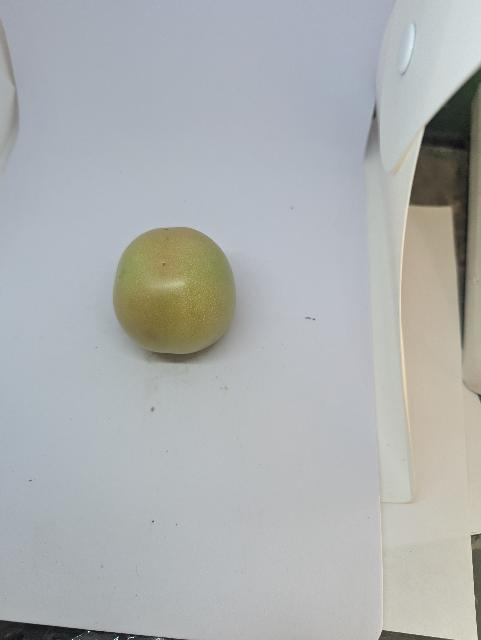breaker: (111, 225, 238, 357)
